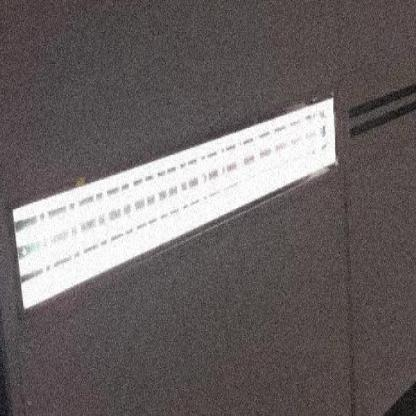light_on: (9, 77, 354, 333)
